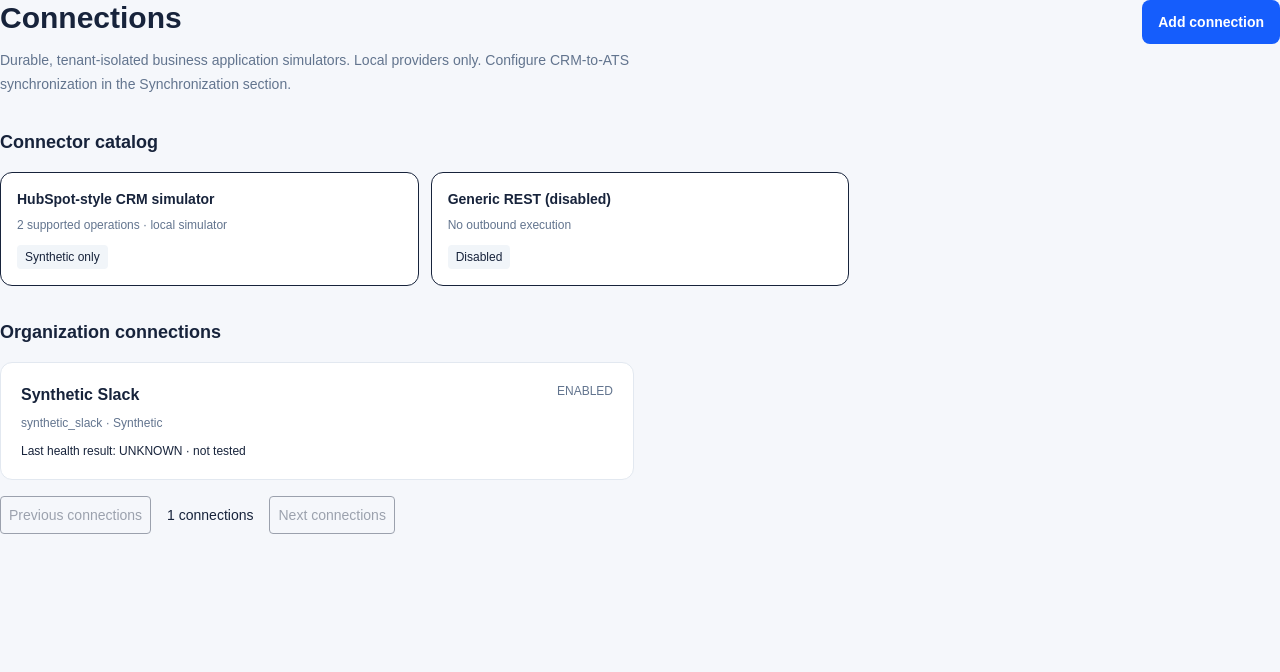
Test: notification browser never claims an external delivery
The width and height of the screenshot is (1280, 672).
Step 1. Click the button that starts with "Synthetic Slack" → x=80, y=394, box 0,362 -> 634,480
(page scrolled)
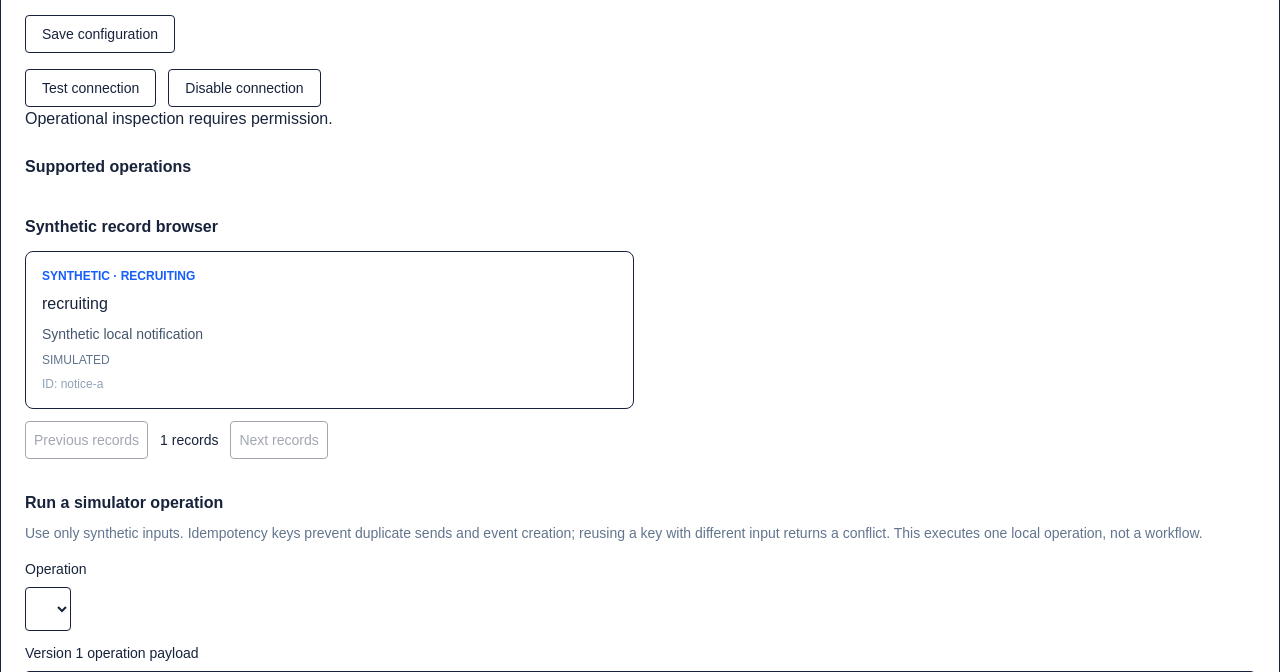
Expected: the text "Synthetic local notification" is shown, 42,326 -> 203,342
Expected: the text "SIMULATED" is shown, 42,353 -> 110,367
